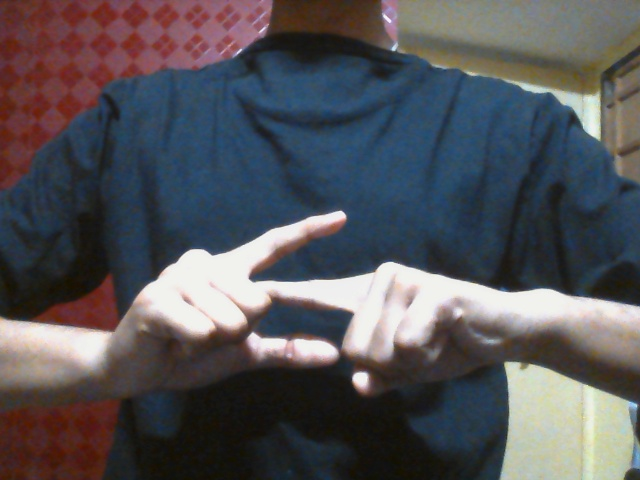E: (122, 207, 500, 403)
